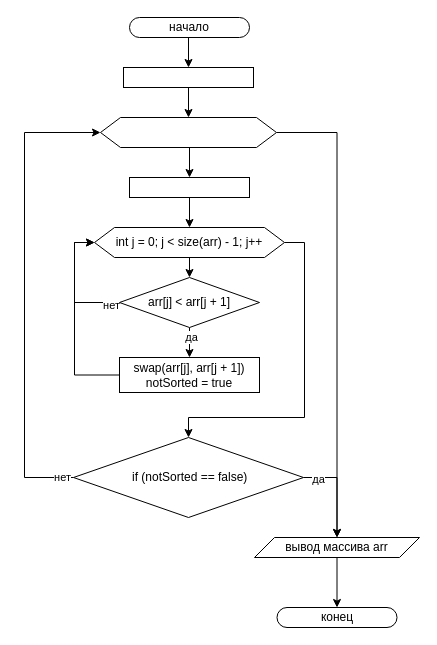
The diagram is 437 pixels wide and 645 high, and some of its shapes have lost their labels. Here are the shapes that lost their labels. From the top down, the centre of each, then its label:
the point at 188,77: заполнить массив arr
the point at 188,132: int i = 0; i < size(arr); i++
the point at 189,187: notSorted = false
